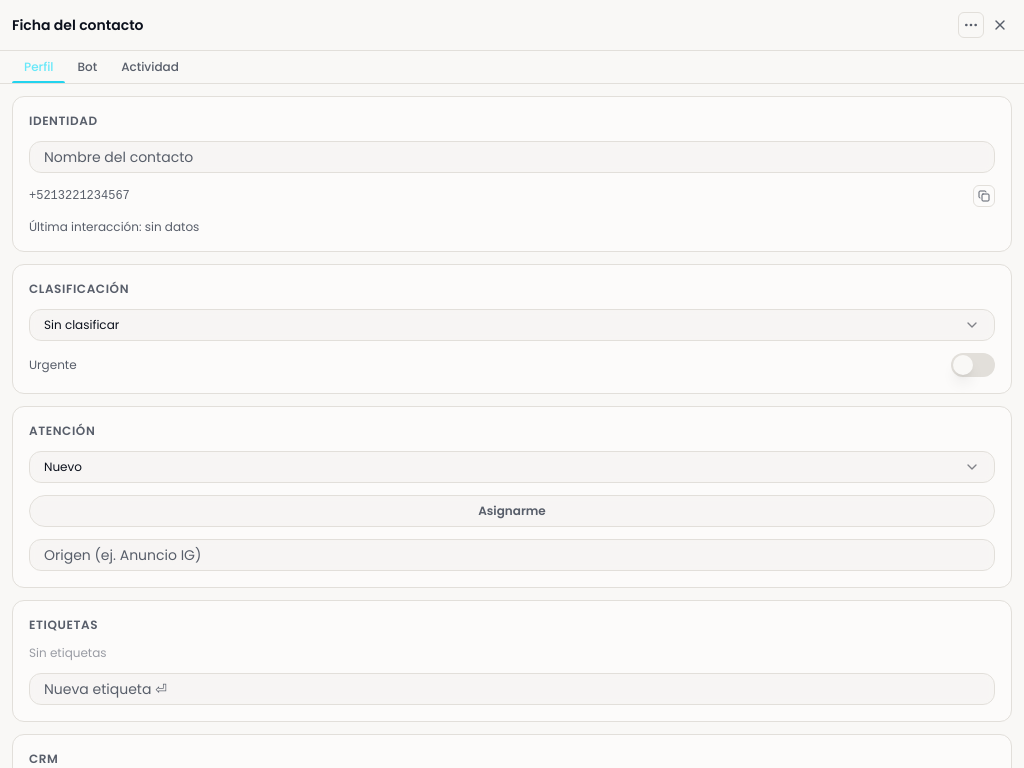
ContactPanel — modo revisor (WO-2026-00181) › admin/staff: los controles de CRM y la nota rápida siguen presentes
This screenshot has width=1024, height=768.
Click the tab "Actividad" at {"x": 150, "y": 67}, box [109,51,191,83]
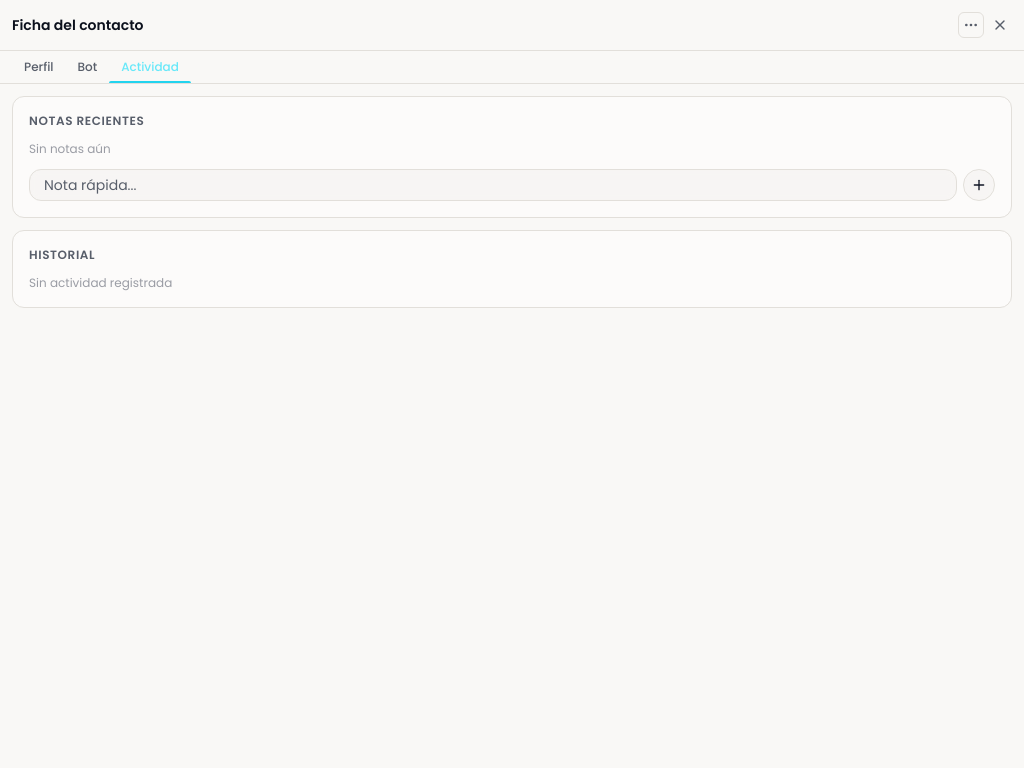
Expected: the field labelled "Nota rápida" is shown, [29,169,957,201]
